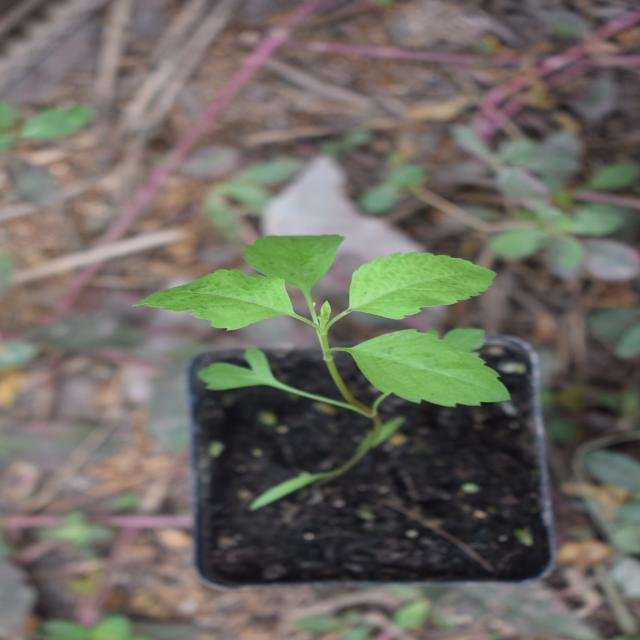Bidens pilosa: (205, 148, 417, 509)
